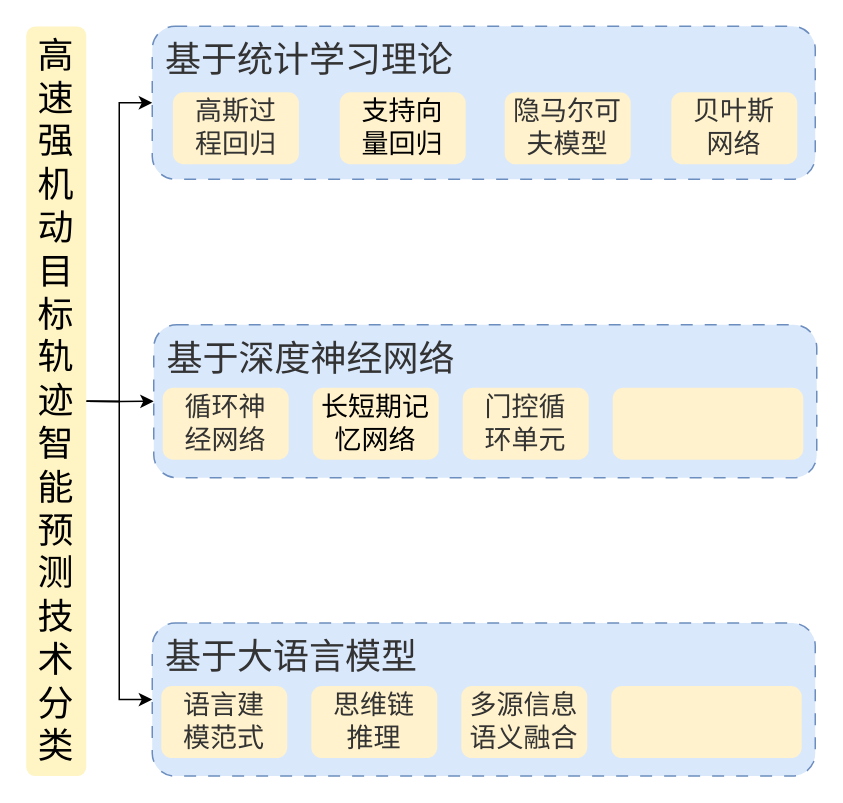
The diagram is 843 pixels wide and 803 high, and some of its shapes have lost their labels. The shapes that lost their labels are listed below. From the top down, each one's centre as x and y in pixels, then its label:
At pixel 707 423: "Transformer".
At pixel 705 721: "轻量化架构".
